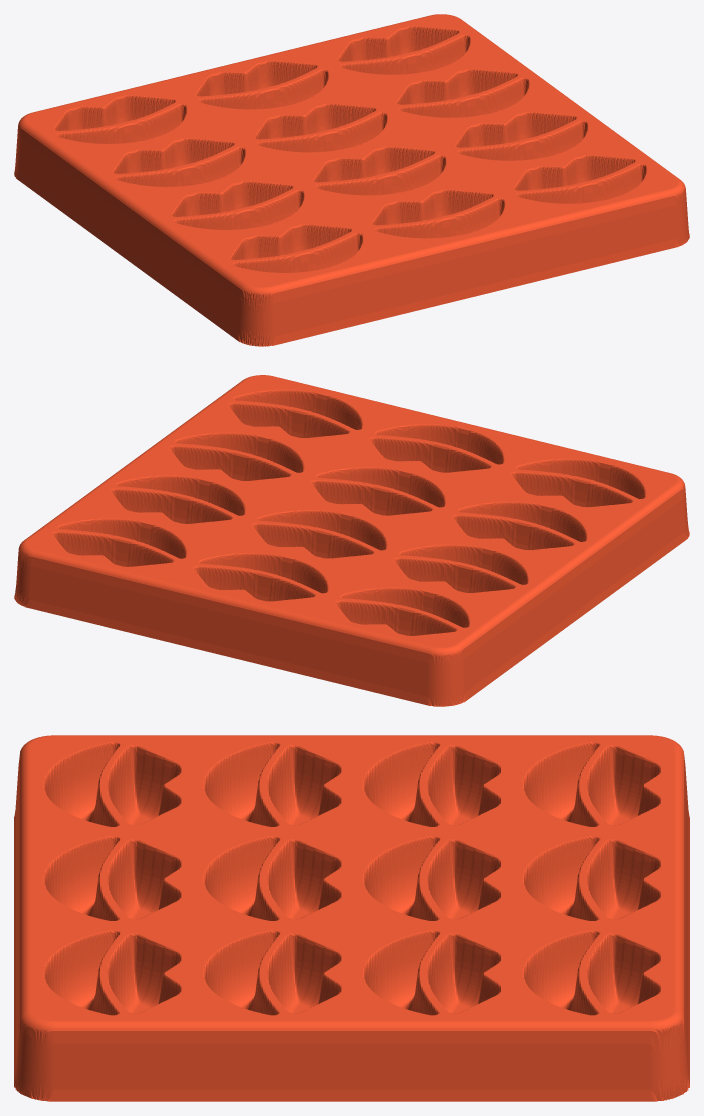
File: mold.glb
3 renders of one model, top to bottom at view 1: azimuth 30°, elevation 25°; view 2: azimuth 150°, elevation 25°; view 3: azimuth 270°, elevation 25°, orthographic. The views are drawn at different scales.
Parts seen in each view (by area): view 1: geometry_0; view 2: geometry_0; view 3: geometry_0.
Part boxes in pixels (left/top/right/bottom): geometry_0: left=14, top=14, right=689, bottom=346; geometry_0: left=14, top=375, right=689, bottom=706; geometry_0: left=14, top=735, right=689, bottom=1101.
Bounding box in the file's own units: 0.1598 × 0.0185 × 0.1531.
